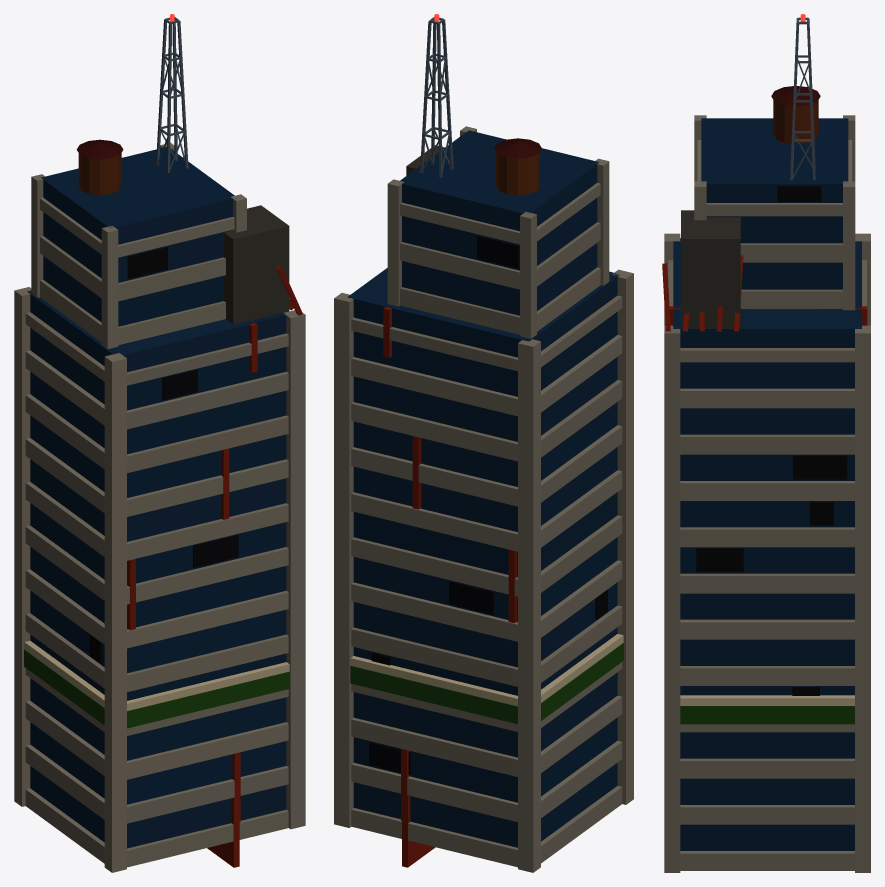
The model's file is tb_tower_glass.three-web-toon.glb.
The picture shows the model from 3 angles, left to right: view 1: azimuth 30°, elevation 25°; view 2: azimuth 150°, elevation 25°; view 3: azimuth 270°, elevation 25°; orthographic projection. The views are drawn at different scales.
Parts seen in each view (by area): view 1: tower_glass_body; view 2: tower_glass_body; view 3: tower_glass_body.
Boxes of the visible parts, bbox=[...] form: tower_glass_body: bbox=[14, 14, 305, 872]; tower_glass_body: bbox=[334, 14, 633, 872]; tower_glass_body: bbox=[662, 14, 870, 872].
Size of the model in its own units: 16.64 by 66.21 by 14.72.
